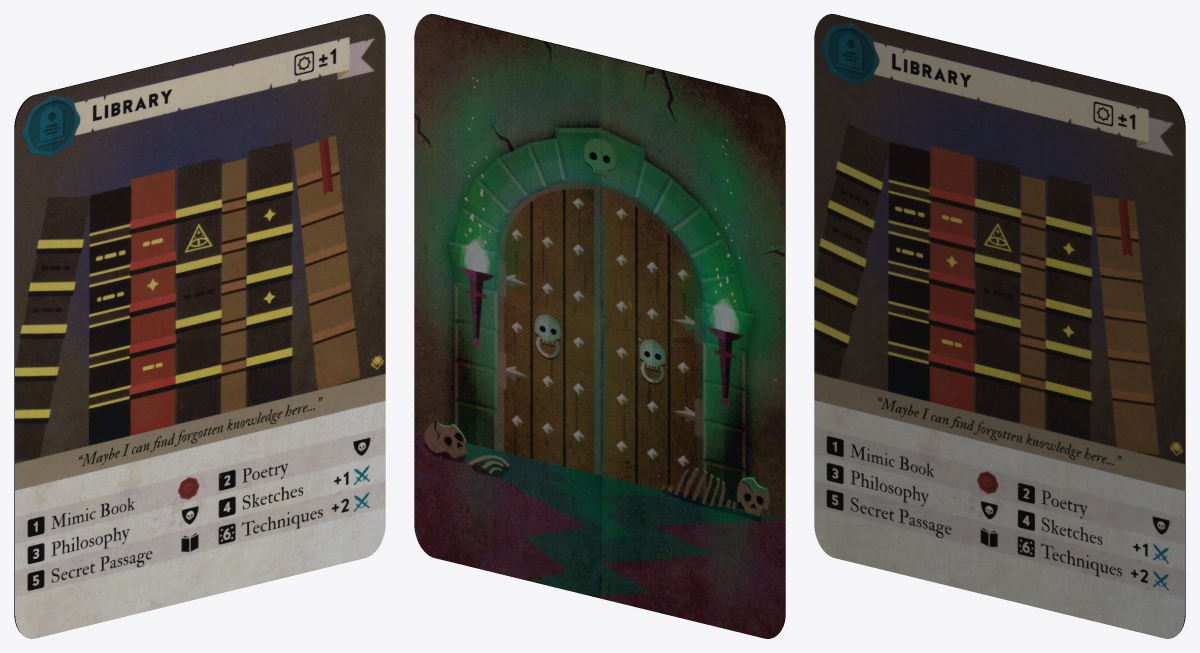
File: Tomb_Library.fbx
The picture shows the model from 3 angles, left to right: view 1: azimuth 30°, elevation 25°; view 2: azimuth 150°, elevation 25°; view 3: azimuth 330°, elevation 25°; orthographic projection.
Visible parts, largest first — view 1: Cube; view 2: Cube; view 3: Cube.
Part boxes in pixels (x1,y1,x2,y2): Cube: (14, 14, 385, 638); Cube: (414, 14, 785, 638); Cube: (814, 14, 1185, 638).
Bounding box in the file's own units: 500 × 700 × 2.
